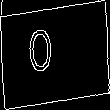O_S: (42, 27, 68, 83)
